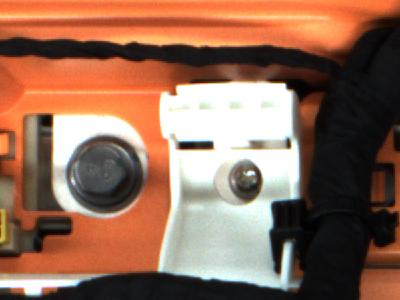nut_b: (66, 135, 145, 212)
